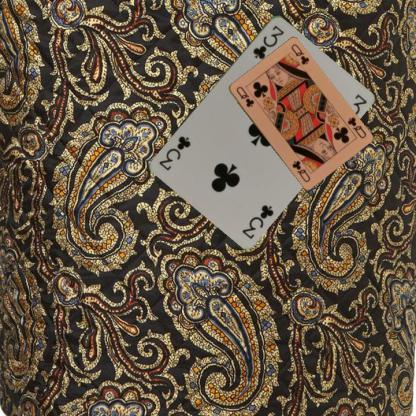3c: (239, 201, 275, 239), (250, 23, 286, 60)
Qc: (344, 114, 367, 140), (233, 84, 255, 108)
